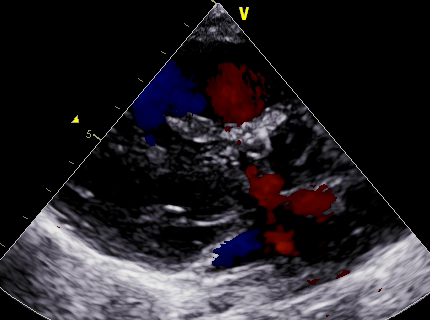AR: (208, 150, 296, 215)
